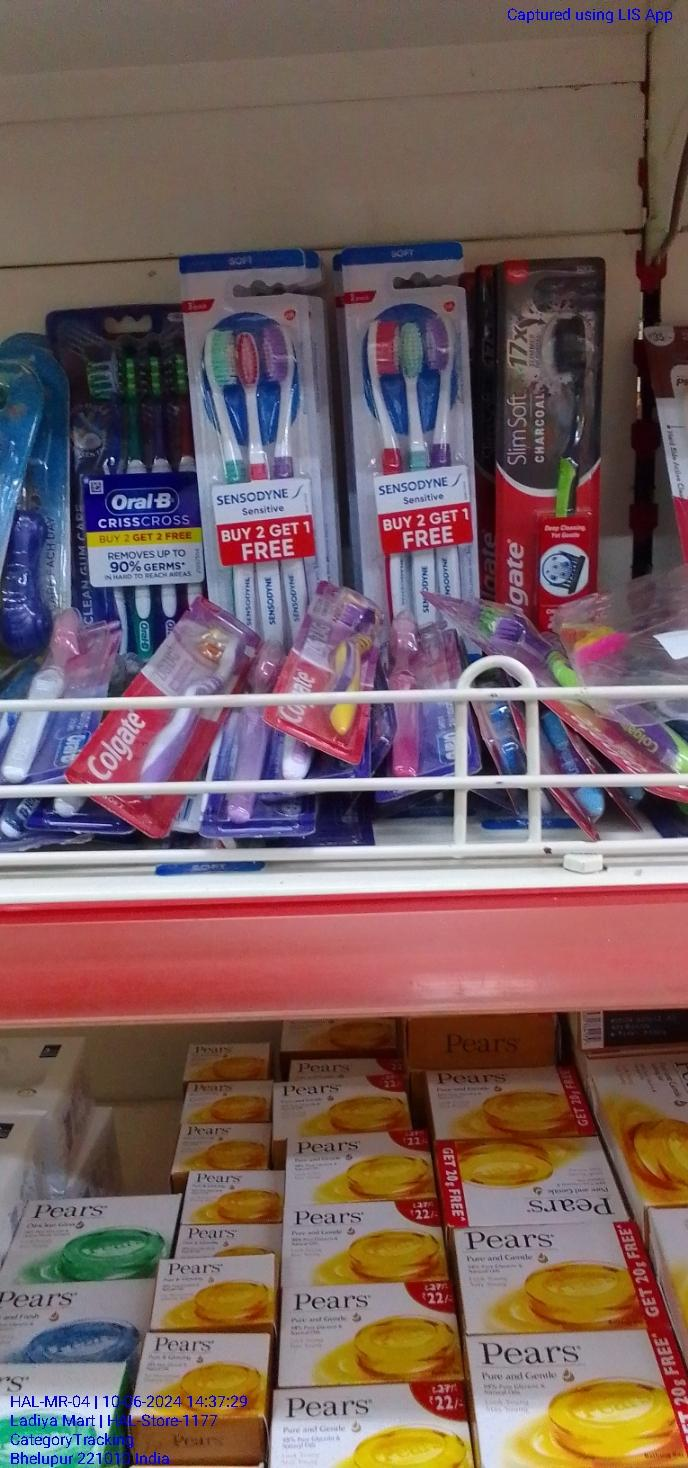soap: (489, 263, 602, 611)
